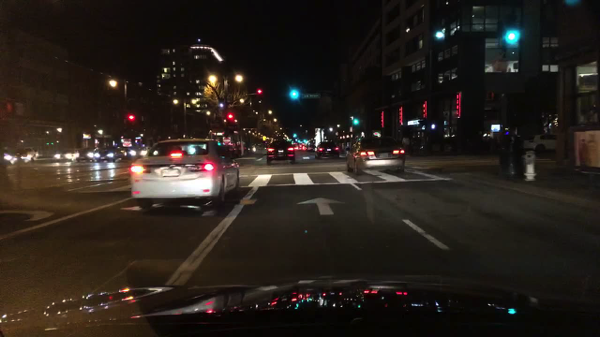car: (129, 138, 241, 208), (345, 136, 404, 175), (266, 141, 295, 164), (528, 135, 558, 153), (95, 147, 126, 162), (315, 142, 338, 160), (1, 148, 19, 167), (55, 150, 76, 162), (130, 147, 152, 158), (75, 148, 93, 161), (26, 147, 39, 162), (295, 143, 305, 151), (311, 143, 316, 151), (308, 145, 311, 152)
person: (402, 136, 410, 153)
traffic light: (506, 27, 515, 43), (350, 115, 361, 126), (291, 88, 297, 101), (127, 115, 133, 121), (228, 112, 232, 121), (257, 88, 262, 94)
traffic sign: (301, 94, 320, 99)
